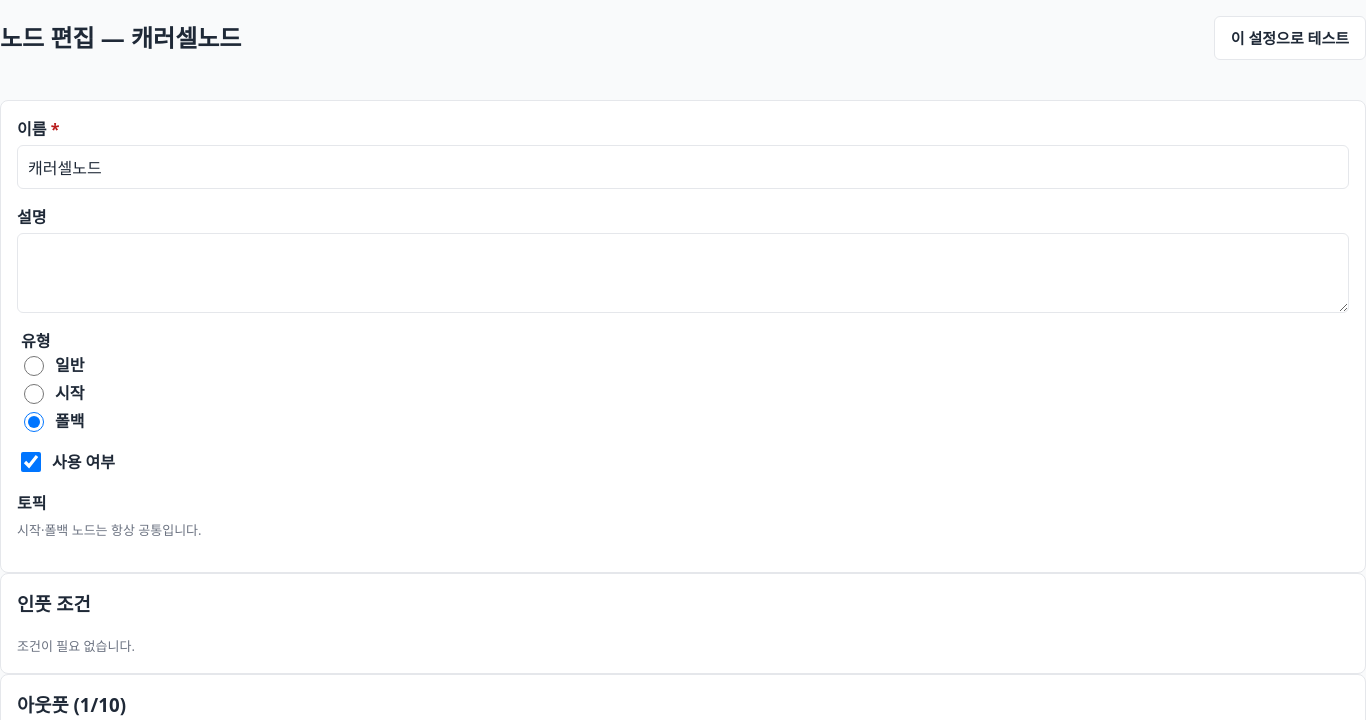
Test case: NodeFormPage — RM-4 저장 경고(비차단) › 캐러셀이 있는 노드를 저장하면 구버전 위젯 강등 경고가 INFO로 보인다(WARNING 아님)
Type "x" into the field showing "캐러셀노드" at (683, 167), box [17,145,1349,189]
(page scrolled)
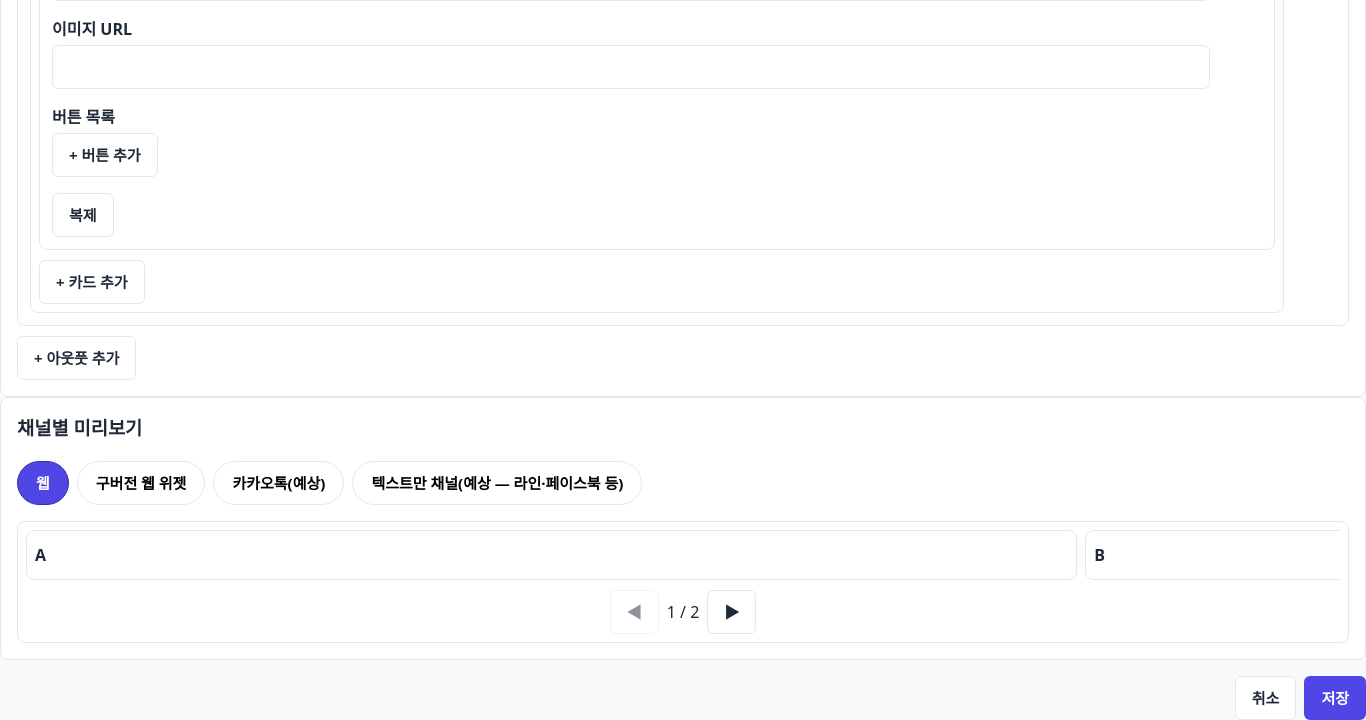
Click the button "저장" at (1335, 698), box [1304,676,1365,719]
(page scrolled)
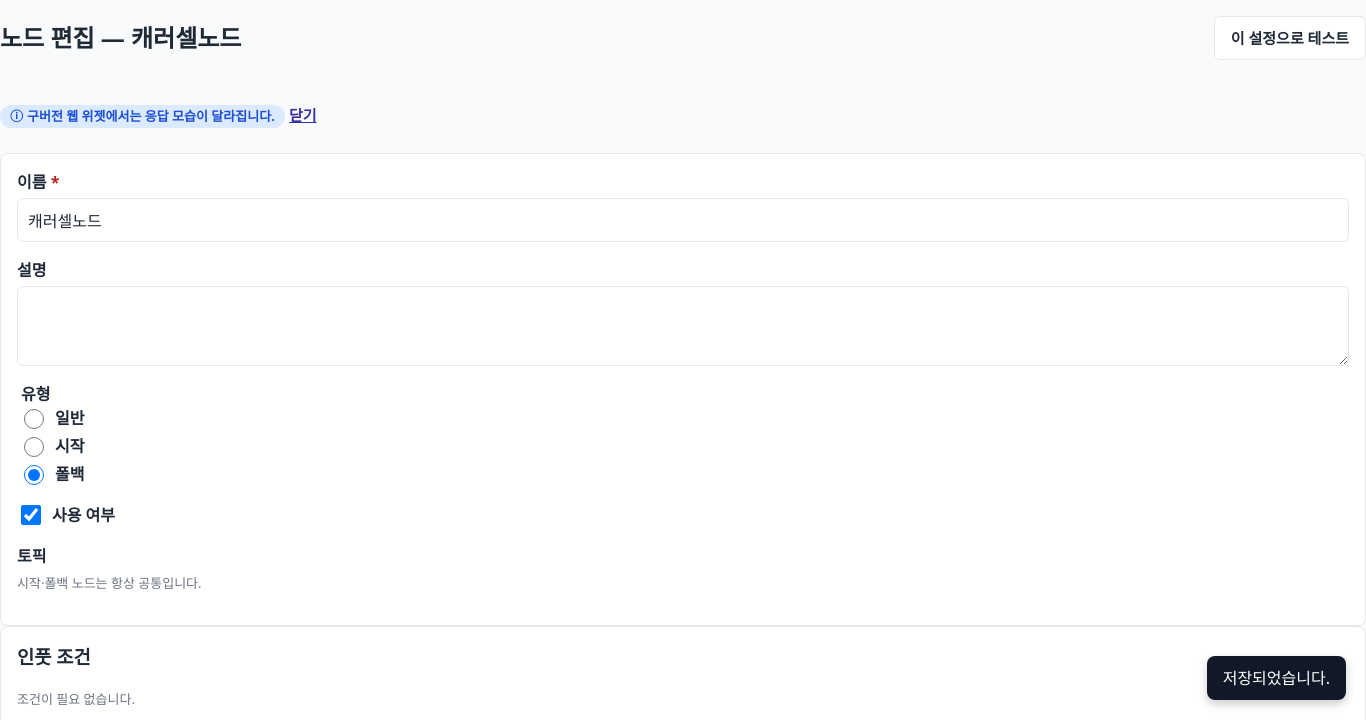
Check: the text "구버전 웹 위젯에서는 응답 모습이 달라집니다." shows "ⓘ", box [10,107,23,125]
